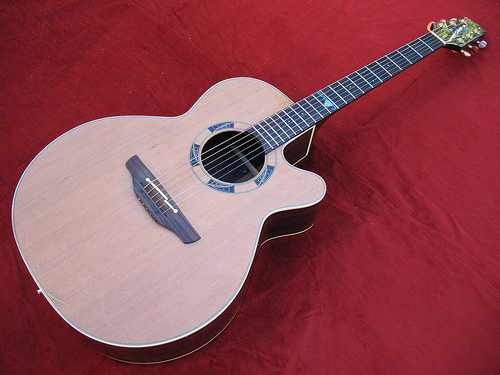guitar: (12, 14, 487, 363)
